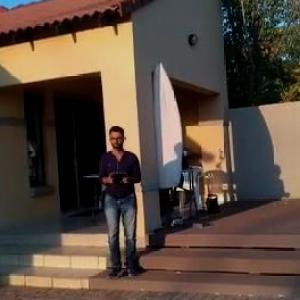follow: (94, 120, 149, 282)
